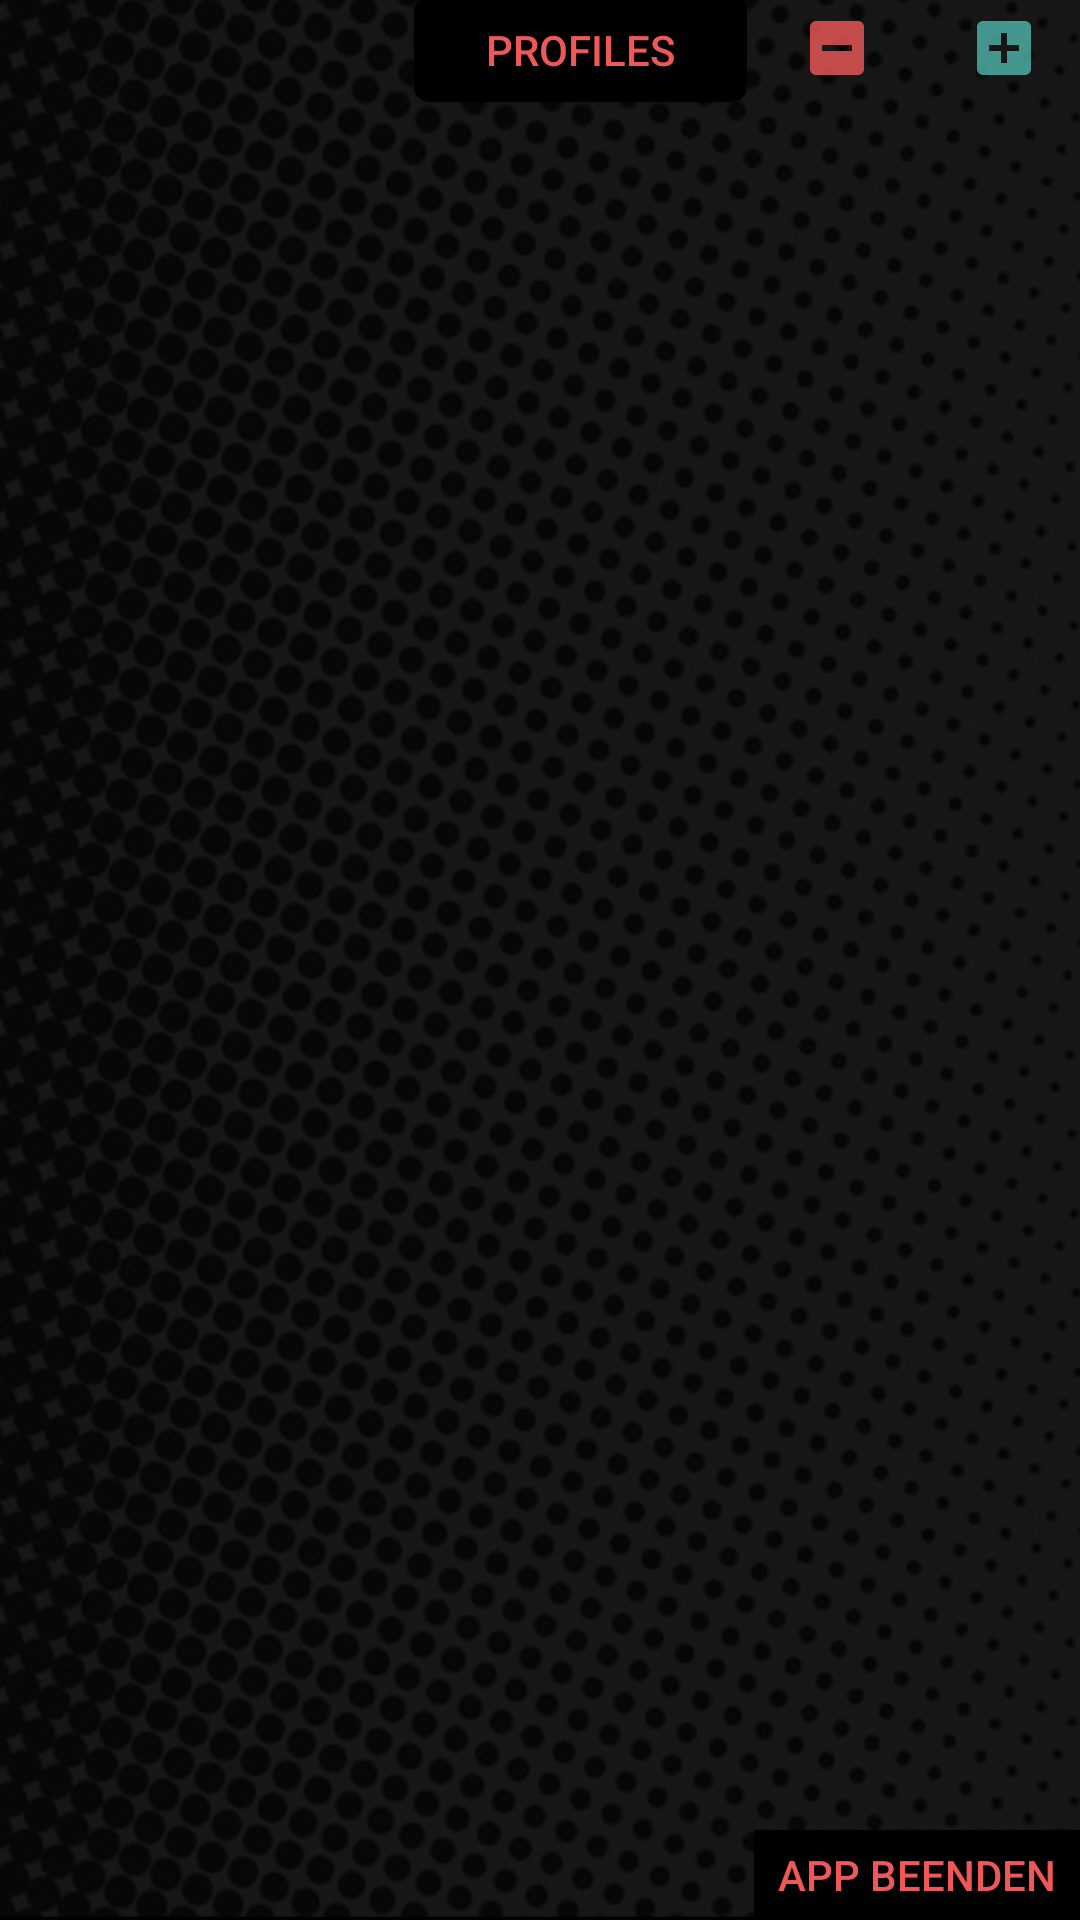

Icons on this 1080×1920 Android screen, each with the point to tap as [x,y]:
minus: [837,48]
plus: [1004,48]
